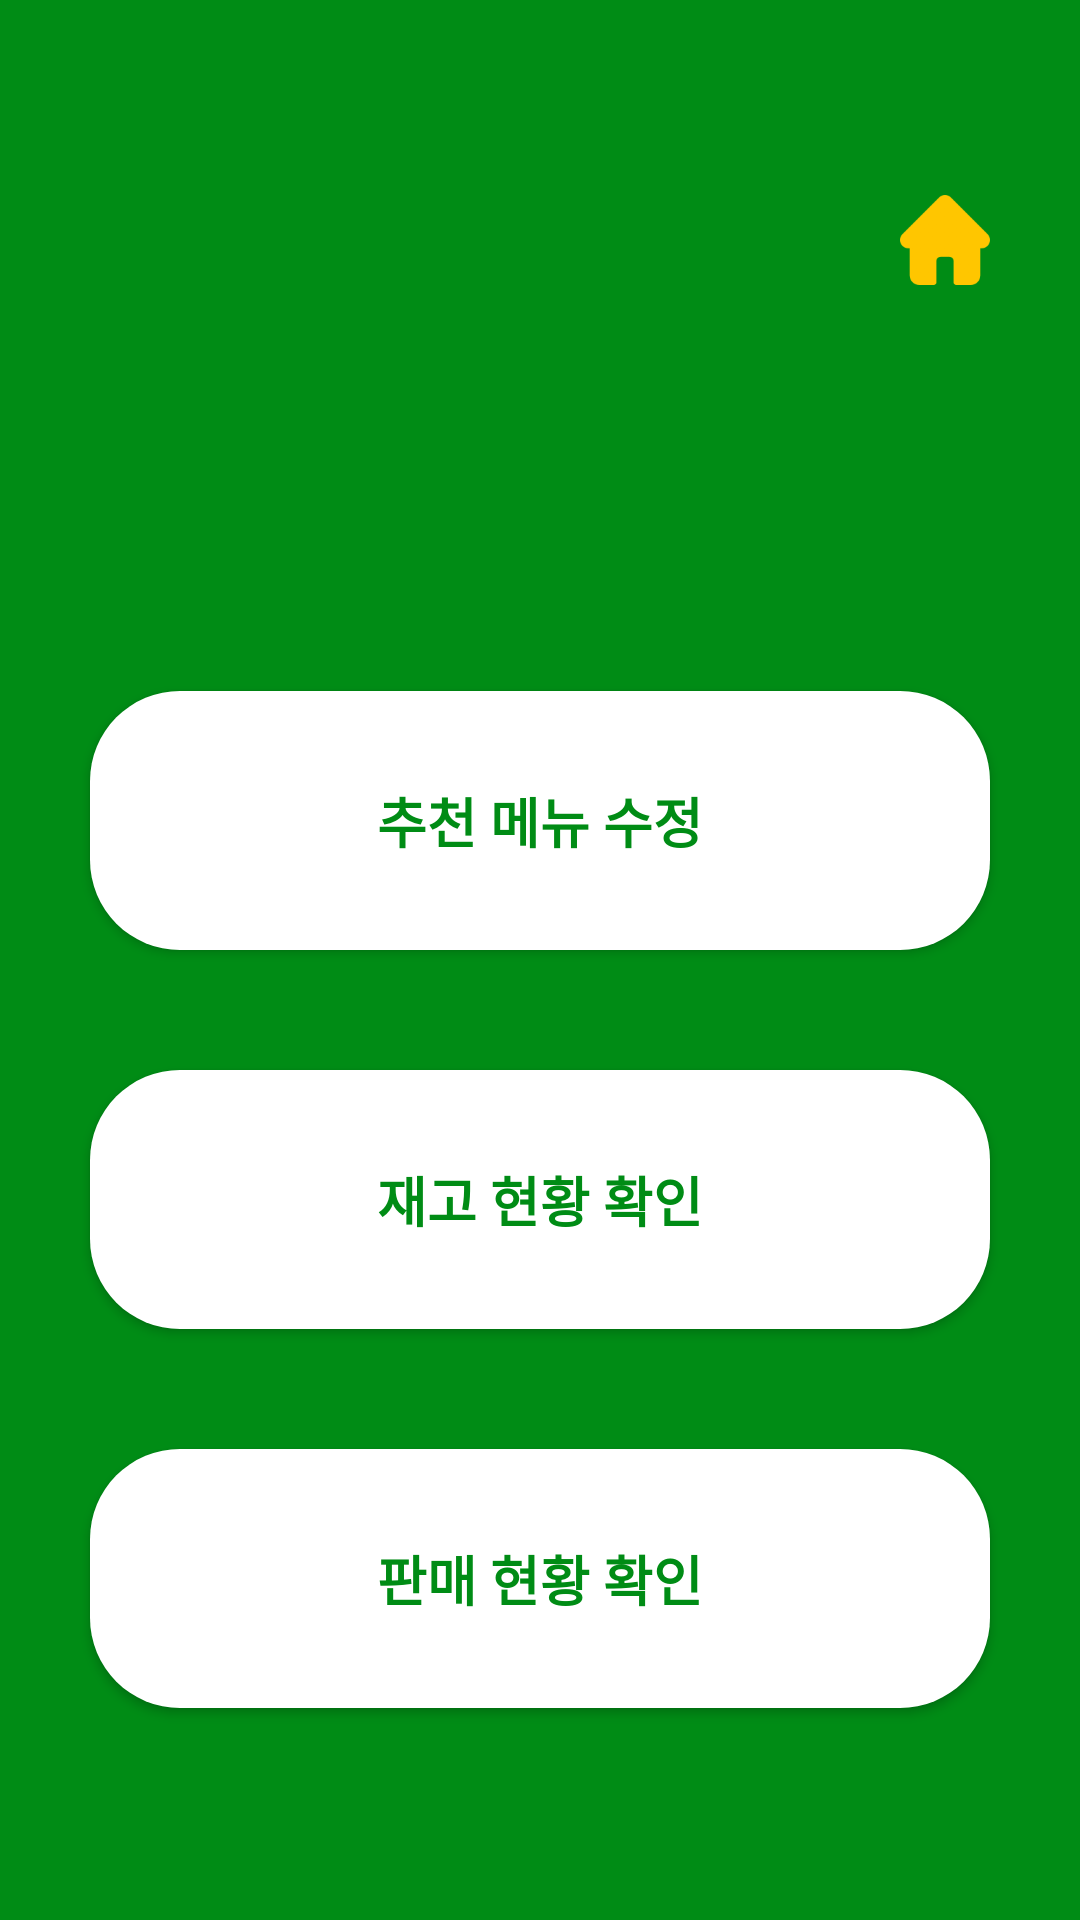

Icon click points for this 1080 × 1920 phone screenshot, format point (x, y):
home: point (945, 240)
